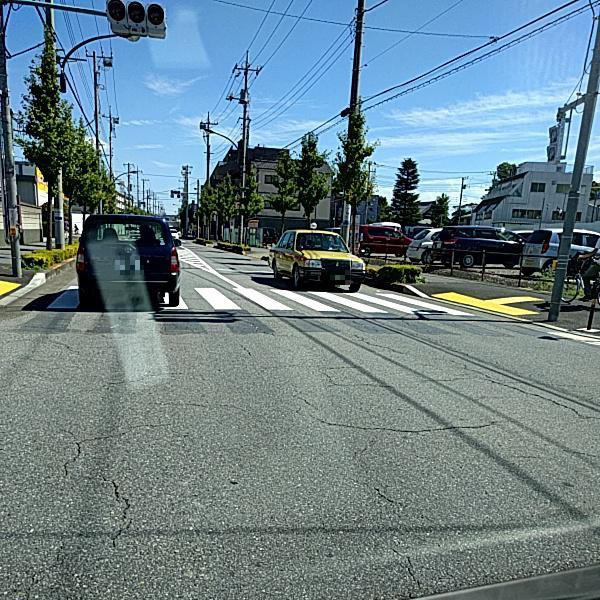D20: (267, 327, 599, 592), (27, 368, 222, 591)
